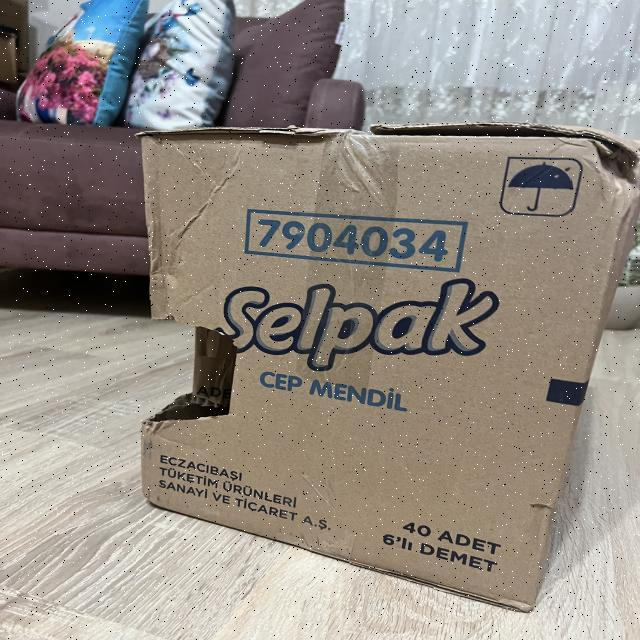damaged: (137, 126, 639, 616), (133, 300, 245, 436), (571, 106, 640, 217)
